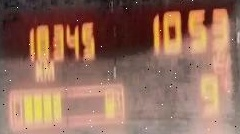0: (162, 8, 182, 55), (34, 22, 49, 60)
1: (151, 11, 160, 51), (28, 26, 35, 62)
3: (211, 6, 228, 51), (52, 22, 64, 60)
4: (64, 22, 79, 59)
5: (186, 6, 207, 54), (80, 20, 94, 60)
9: (199, 72, 219, 117)
X: (42, 59, 54, 82), (35, 59, 44, 83)
